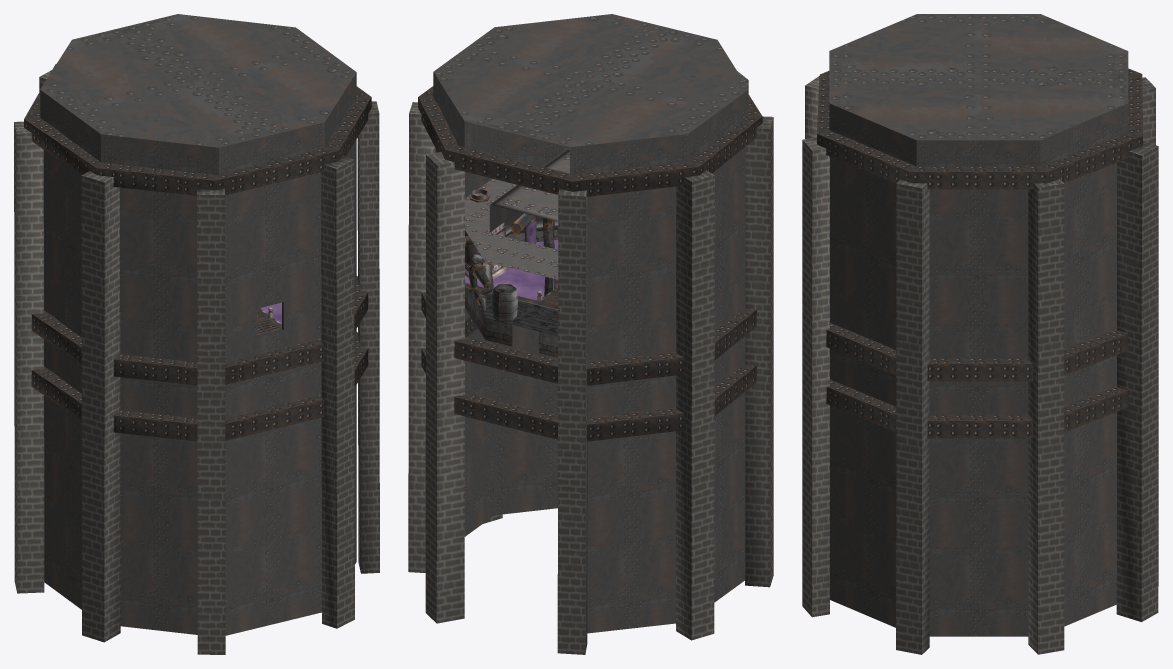
The model's file is sales_director_boss_room.fbx.
3 views of the same model, side by side, from view 1: azimuth 30°, elevation 25°; view 2: azimuth 150°, elevation 25°; view 3: azimuth 270°, elevation 25° (orthographic).
Visible parts, largest first — view 1: BrickPillar, MetalBeamTrims; view 2: BrickPillar, MetalBeamTrims, Ceiling, Walls, Balcony, Pipes, PaintMixture, Tank, PaintBoiler; view 3: BrickPillar, MetalBeamTrims.
Part boxes in pixels (<box>): BrickPillar: <box>14,14,379,654</box>; MetalBeamTrims: <box>24,64,371,441</box>; BrickPillar: <box>408,14,773,654</box>; MetalBeamTrims: <box>418,86,762,441</box>; Ceiling: <box>465,148,569,279</box>; Walls: <box>465,205,558,357</box>; Balcony: <box>465,283,558,335</box>; Pipes: <box>468,213,558,310</box>; PaintMixture: <box>465,240,558,300</box>; Tank: <box>492,284,517,321</box>; PaintBoiler: <box>465,189,508,278</box>; BrickPillar: <box>802,14,1158,654</box>; MetalBeamTrims: <box>817,68,1143,438</box>.
Bounding box in the file's own units: 5169 × 8086 × 5181.
